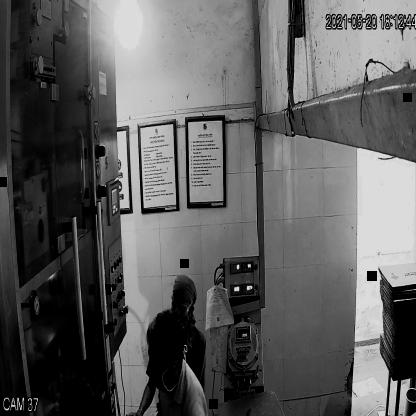goggles: (170, 298, 194, 316)
